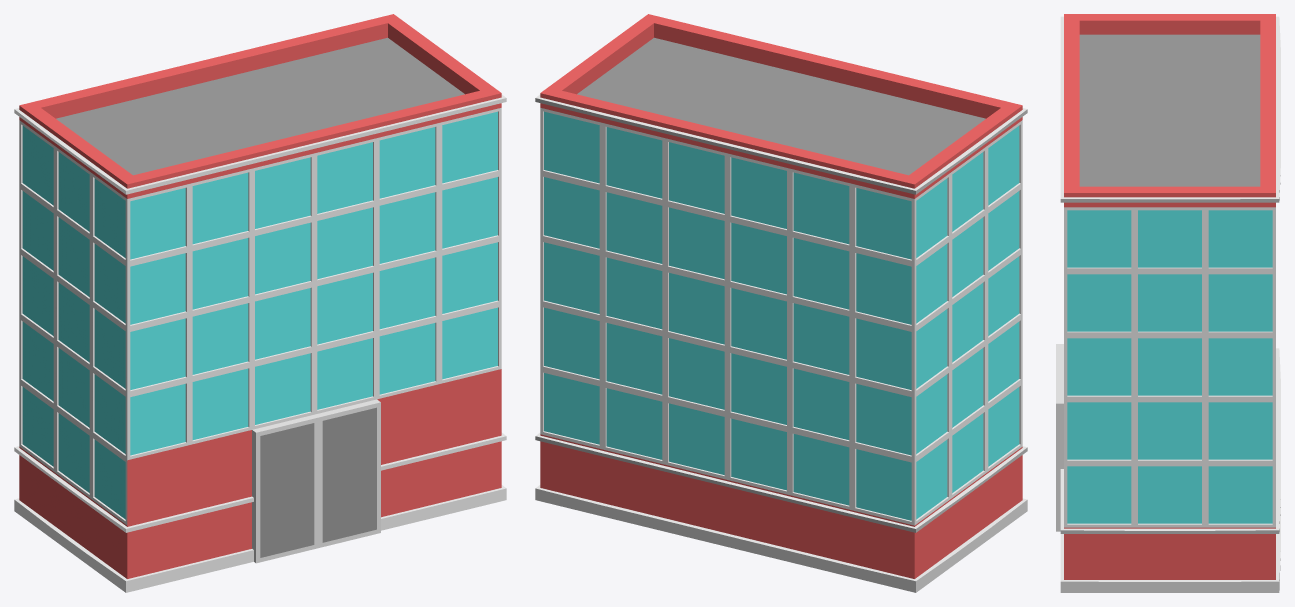
Rendered from SM_House_19_02.FBX.
The picture shows the model from 3 angles, left to right: view 1: azimuth 30°, elevation 25°; view 2: azimuth 150°, elevation 25°; view 3: azimuth 270°, elevation 25°; orthographic projection. The views are drawn at different scales.
Visible parts, largest first — view 1: SM_House_19_02; view 2: SM_House_19_02; view 3: SM_House_19_02.
Part boxes in pixels (x1,y1,x2,y2): SM_House_19_02: (14, 14, 506, 592); SM_House_19_02: (535, 14, 1027, 592); SM_House_19_02: (1056, 14, 1280, 592).
Size of the model in its own units: 6.14 by 6.22 by 3.18.
Materials: 1 (1 with a texture image).
